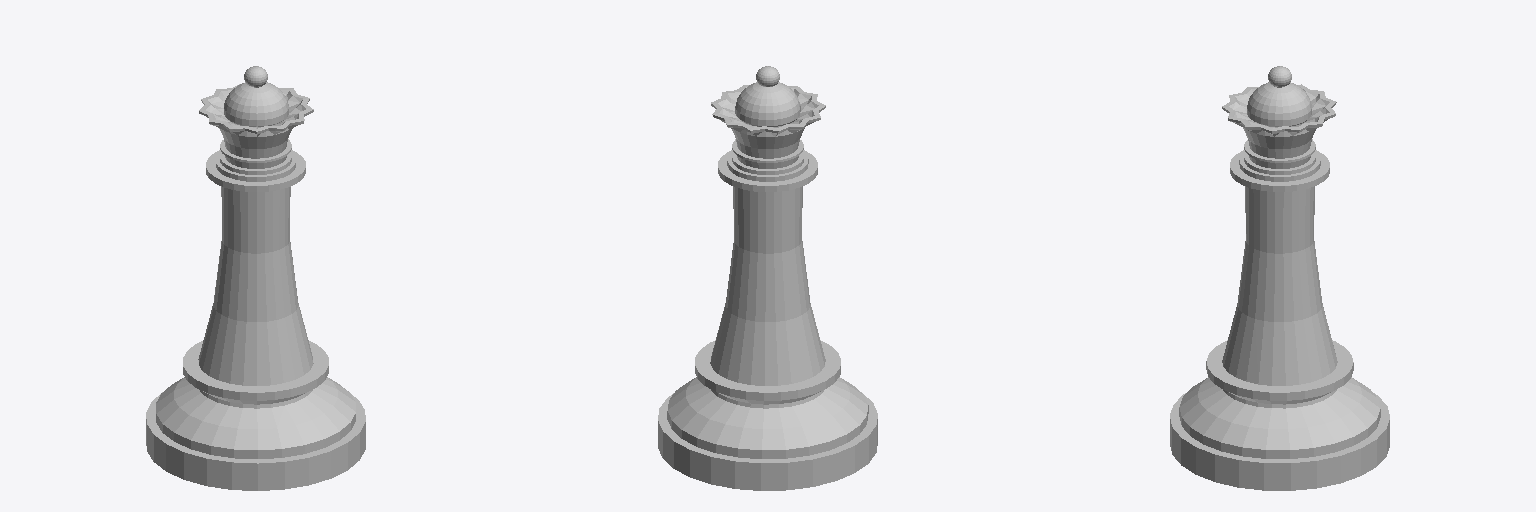
Rendered from queen_black.obj.
3 renders of one model, left to right at view 1: azimuth 30°, elevation 25°; view 2: azimuth 150°, elevation 25°; view 3: azimuth 270°, elevation 25°, orthographic.
Parts seen in each view (by area): view 1: queen_black_uploads_files_[number redacted]_Chess+Set.004; view 2: queen_black_uploads_files_[number redacted]_Chess+Set.004; view 3: queen_black_uploads_files_[number redacted]_Chess+Set.004.
Part boxes in pixels (x1,y1,x2,y2): queen_black_uploads_files_[number redacted]_Chess+Set.004: (146, 66, 365, 490); queen_black_uploads_files_[number redacted]_Chess+Set.004: (658, 66, 877, 490); queen_black_uploads_files_[number redacted]_Chess+Set.004: (1170, 66, 1389, 490).
Size of the model in its own units: 4.56 by 8.64 by 4.58.